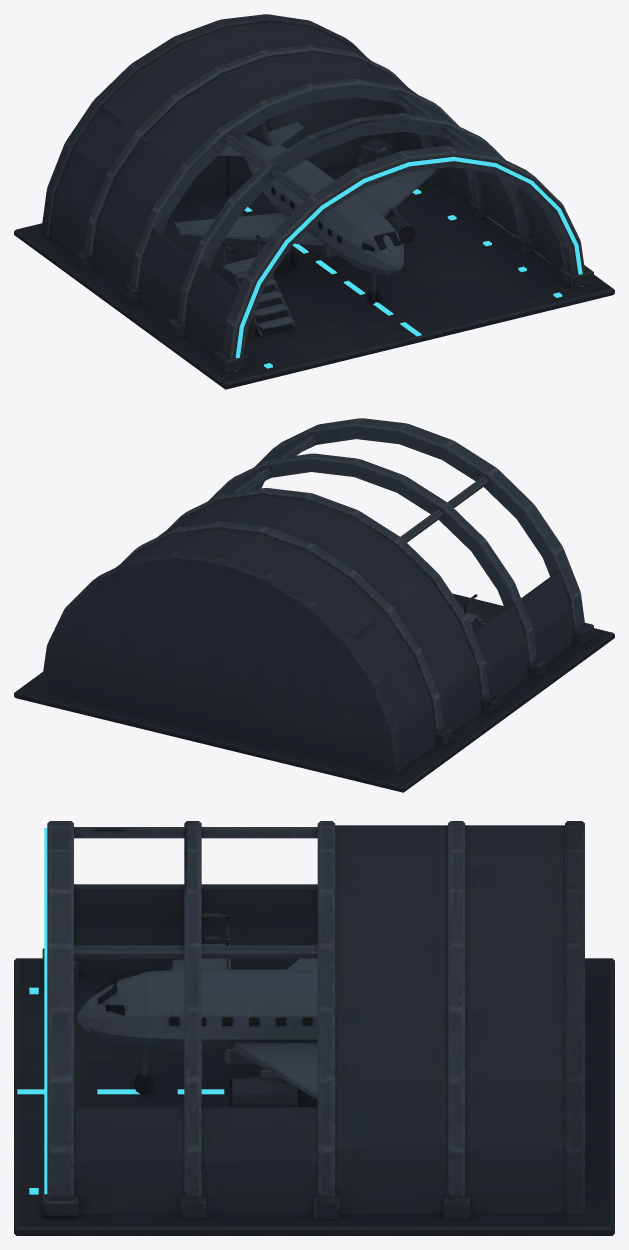
Rendered from plane-hangar.glb.
3 views of the same model, one above another, from view 1: azimuth 30°, elevation 25°; view 2: azimuth 150°, elevation 25°; view 3: azimuth 270°, elevation 25° (orthographic). The views are drawn at different scales.
Visible parts, largest first — view 1: hangar, plane, trim; view 2: hangar; view 3: hangar, plane, trim.
Boxes of the visible parts, bbox=[...] form: hangar: bbox=[14, 14, 614, 389]; plane: bbox=[166, 122, 435, 304]; trim: bbox=[235, 156, 583, 371]; hangar: bbox=[14, 418, 614, 792]; hangar: bbox=[14, 821, 614, 1235]; plane: bbox=[77, 944, 317, 1107]; trim: bbox=[17, 828, 224, 1194].
Bounding box in the file's own units: 9.6 × 4.15 × 9.
2 materials, 1 textured.
